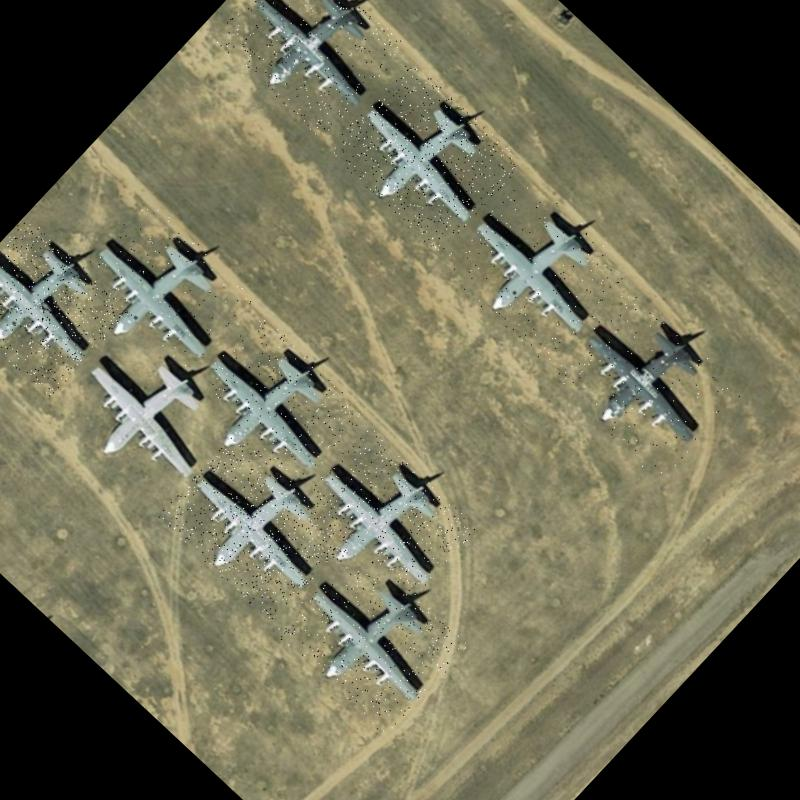A2: (438, 170, 637, 368), (546, 286, 744, 483), (326, 59, 524, 255), (64, 198, 261, 393), (273, 543, 469, 738), (156, 432, 349, 624), (286, 426, 479, 616), (177, 314, 368, 503), (52, 320, 239, 506), (211, 0, 407, 140), (0, 215, 130, 399)
